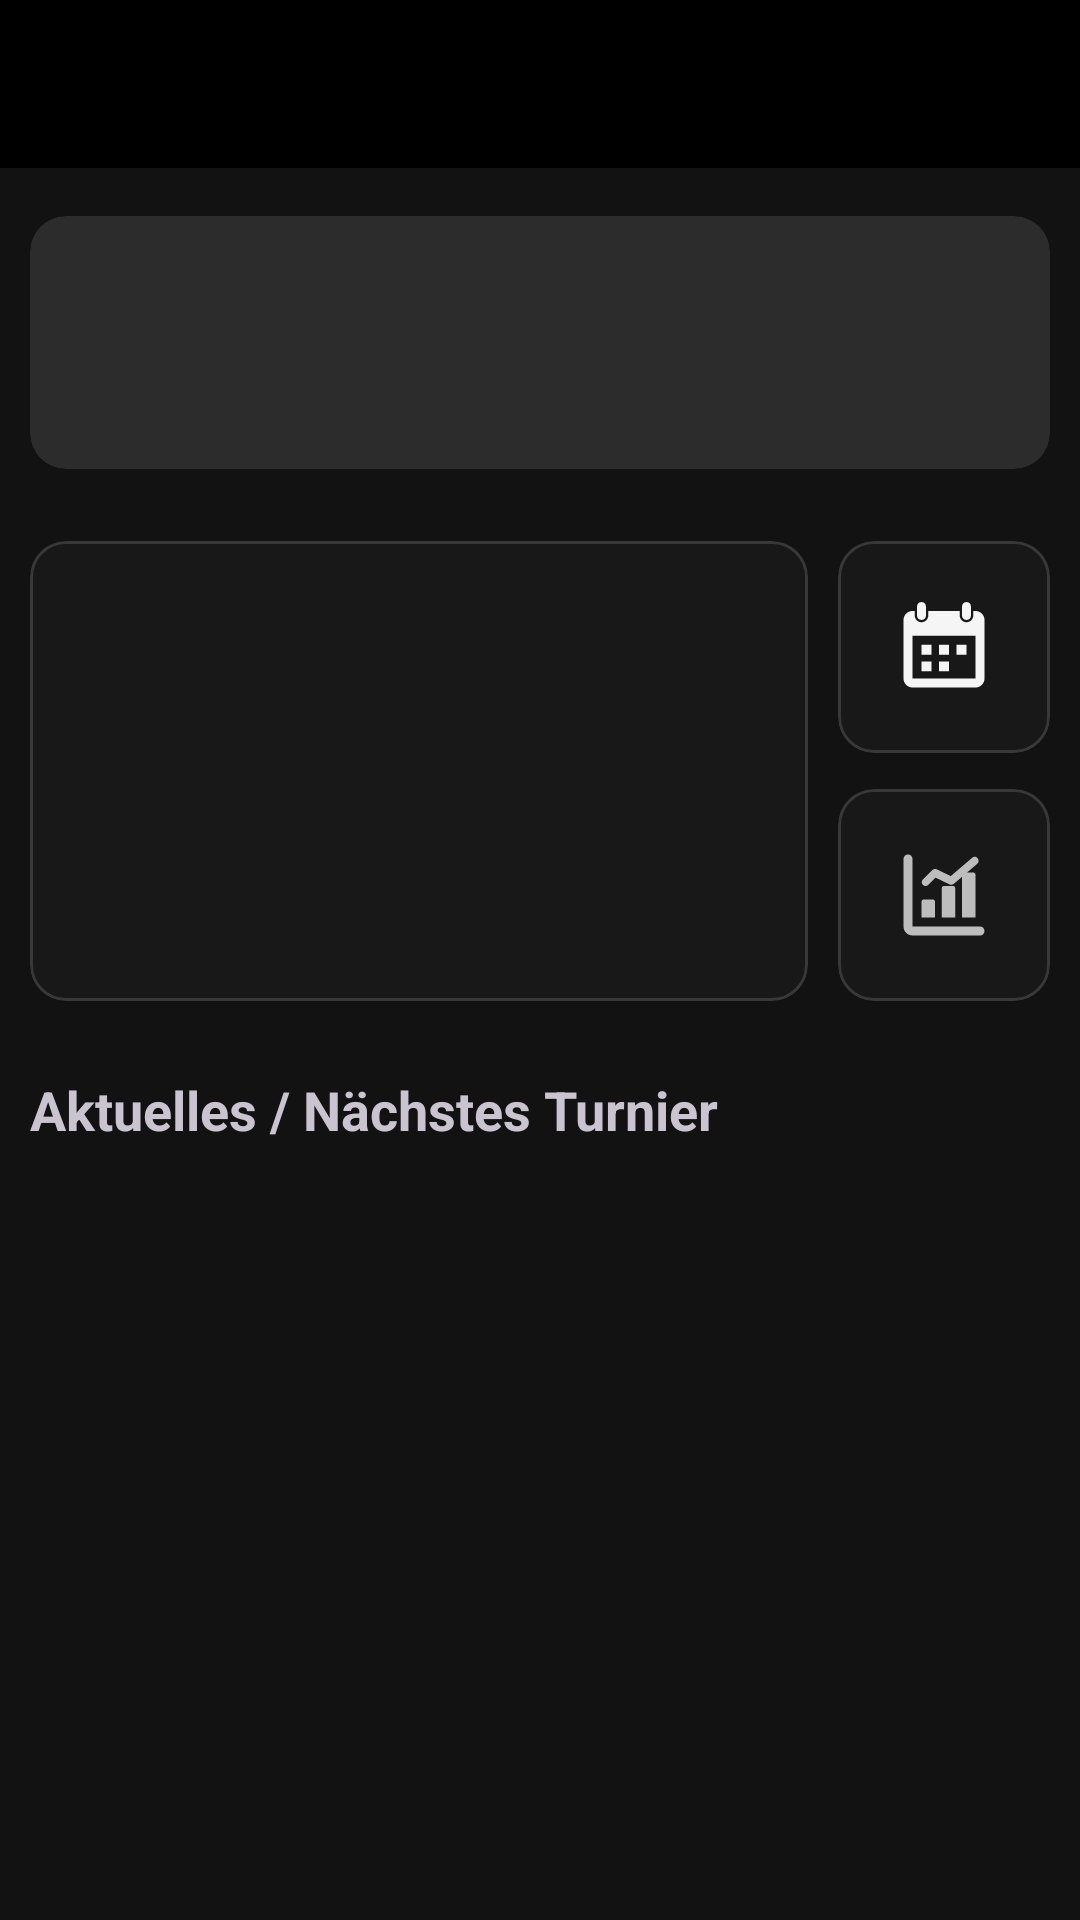

Icon bounding boxes for this 1080 × 1920 phone screenshot, format (x1, y1, x2, y2):
Saisonkalender öffnen: (903, 602, 985, 688)
Statistiken öffnen: (903, 854, 985, 936)
